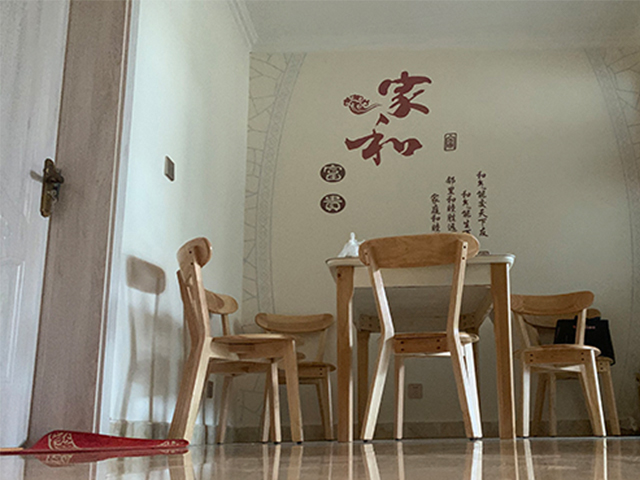carpet: (1, 429, 190, 456)
stool: (167, 237, 304, 446), (358, 230, 485, 443), (510, 289, 607, 440), (255, 312, 337, 444)
table: (325, 252, 517, 443)
